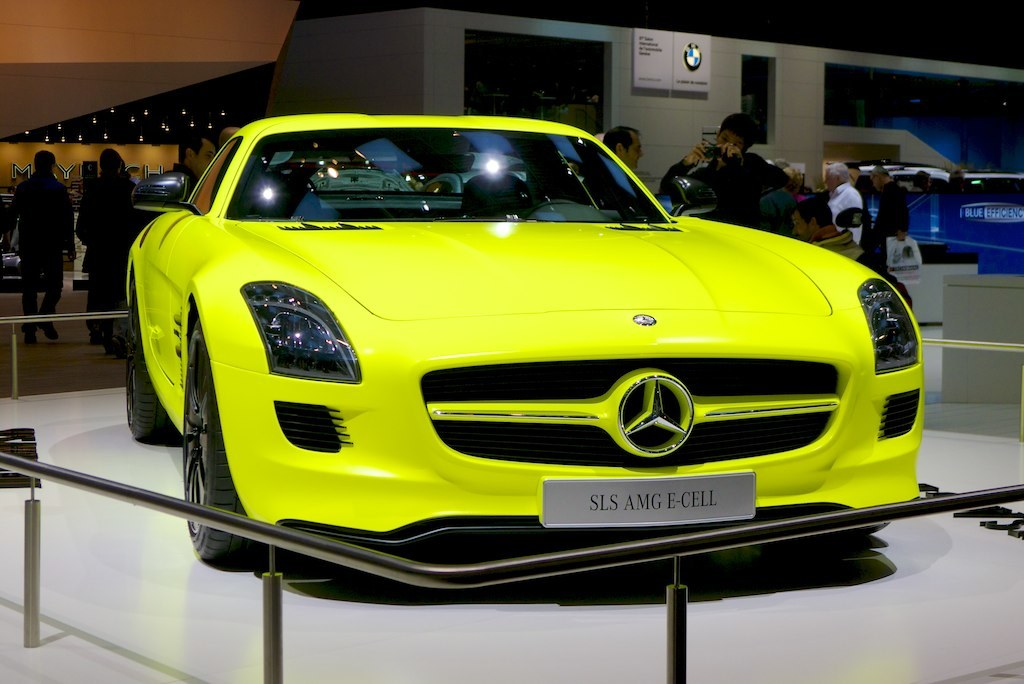Person: (661, 116, 798, 227), (4, 149, 77, 346), (73, 153, 133, 345), (788, 198, 863, 263), (872, 162, 913, 264), (162, 135, 212, 199), (830, 164, 865, 243), (601, 124, 644, 181)
